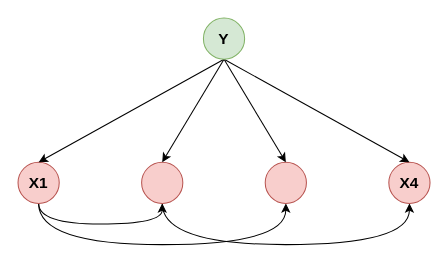
Some shapes in this 448 by 263 pixel diagram are drawn without their labels. The shapes that lost their labels are listed below. From the top down, each one's box as (x1, y1, x2, y2) in pixels, then its label:
(141, 161, 183, 203): X2
(264, 161, 306, 203): X3
